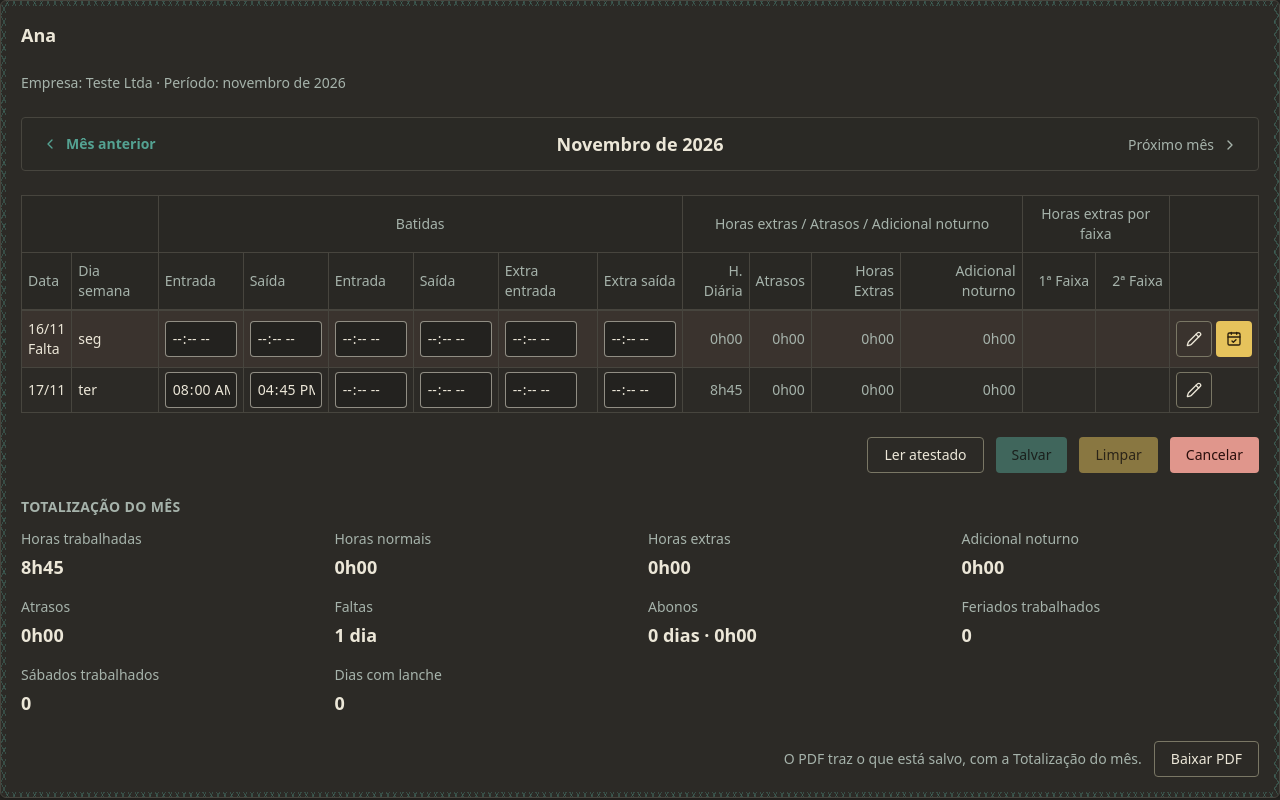
Test: CartaoDePontoContainer › rede fora (TypeError) mostra a falta de conexão
Click the button named "Editar seg 16/11" at (1194, 339), box [1176, 321, 1212, 357]
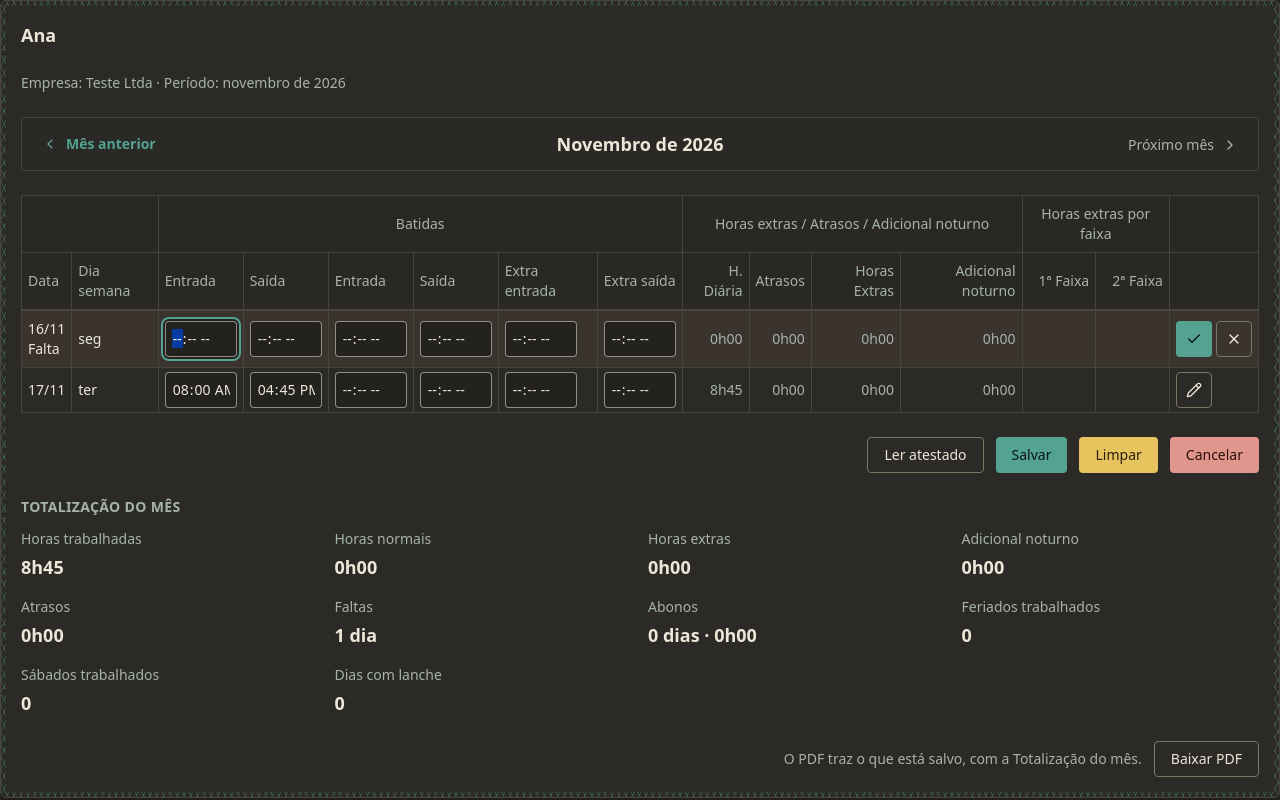
Click the button named "Salvar seg 16/11" at (1194, 339), box [1176, 321, 1212, 357]
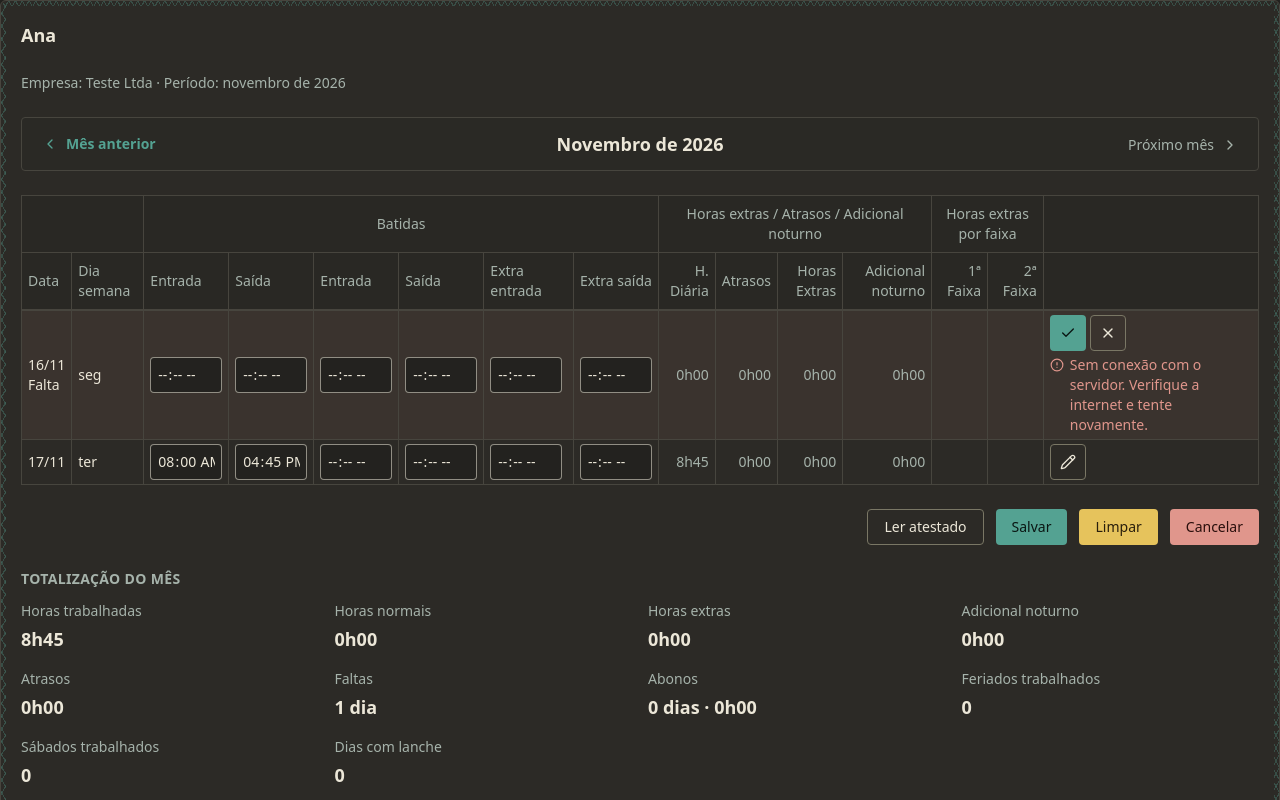
Expected: the message shows "Sem conexão com o servidor", [1070, 355, 1201, 434]
